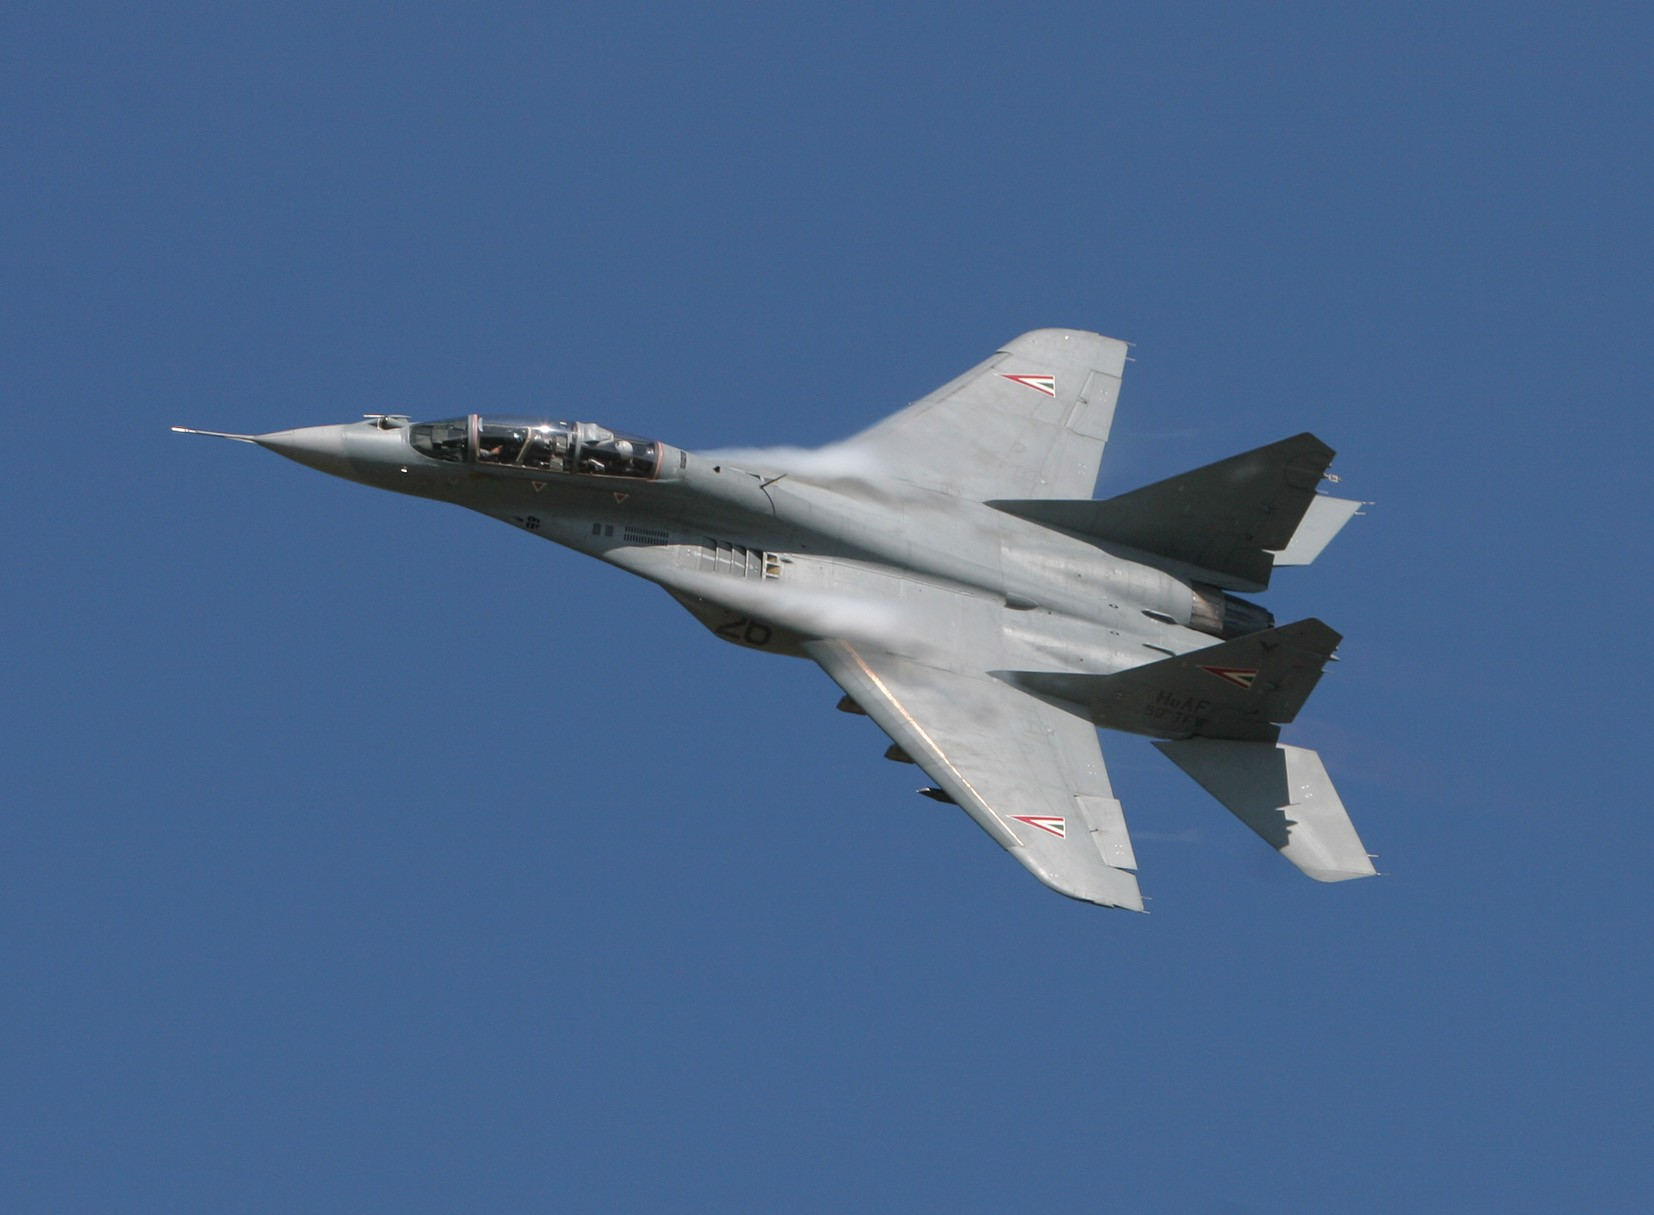Mig-29: (107, 256, 1420, 1039)
